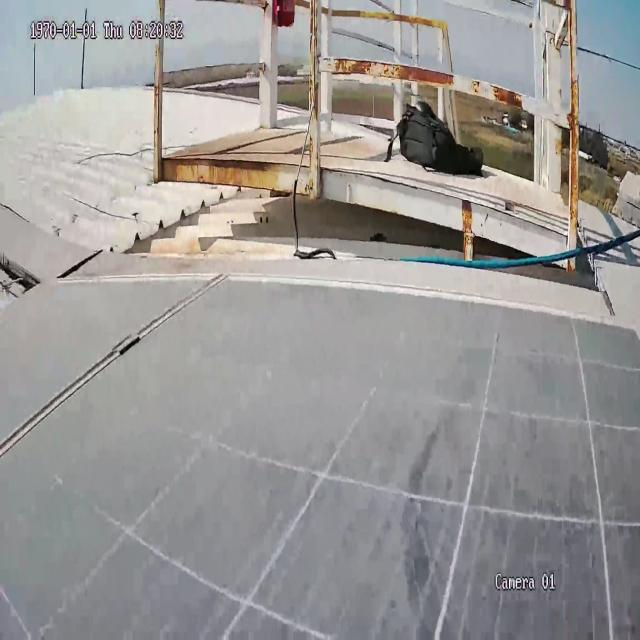interior panel: (0, 270, 247, 477)
outher panel: (0, 0, 640, 319)
